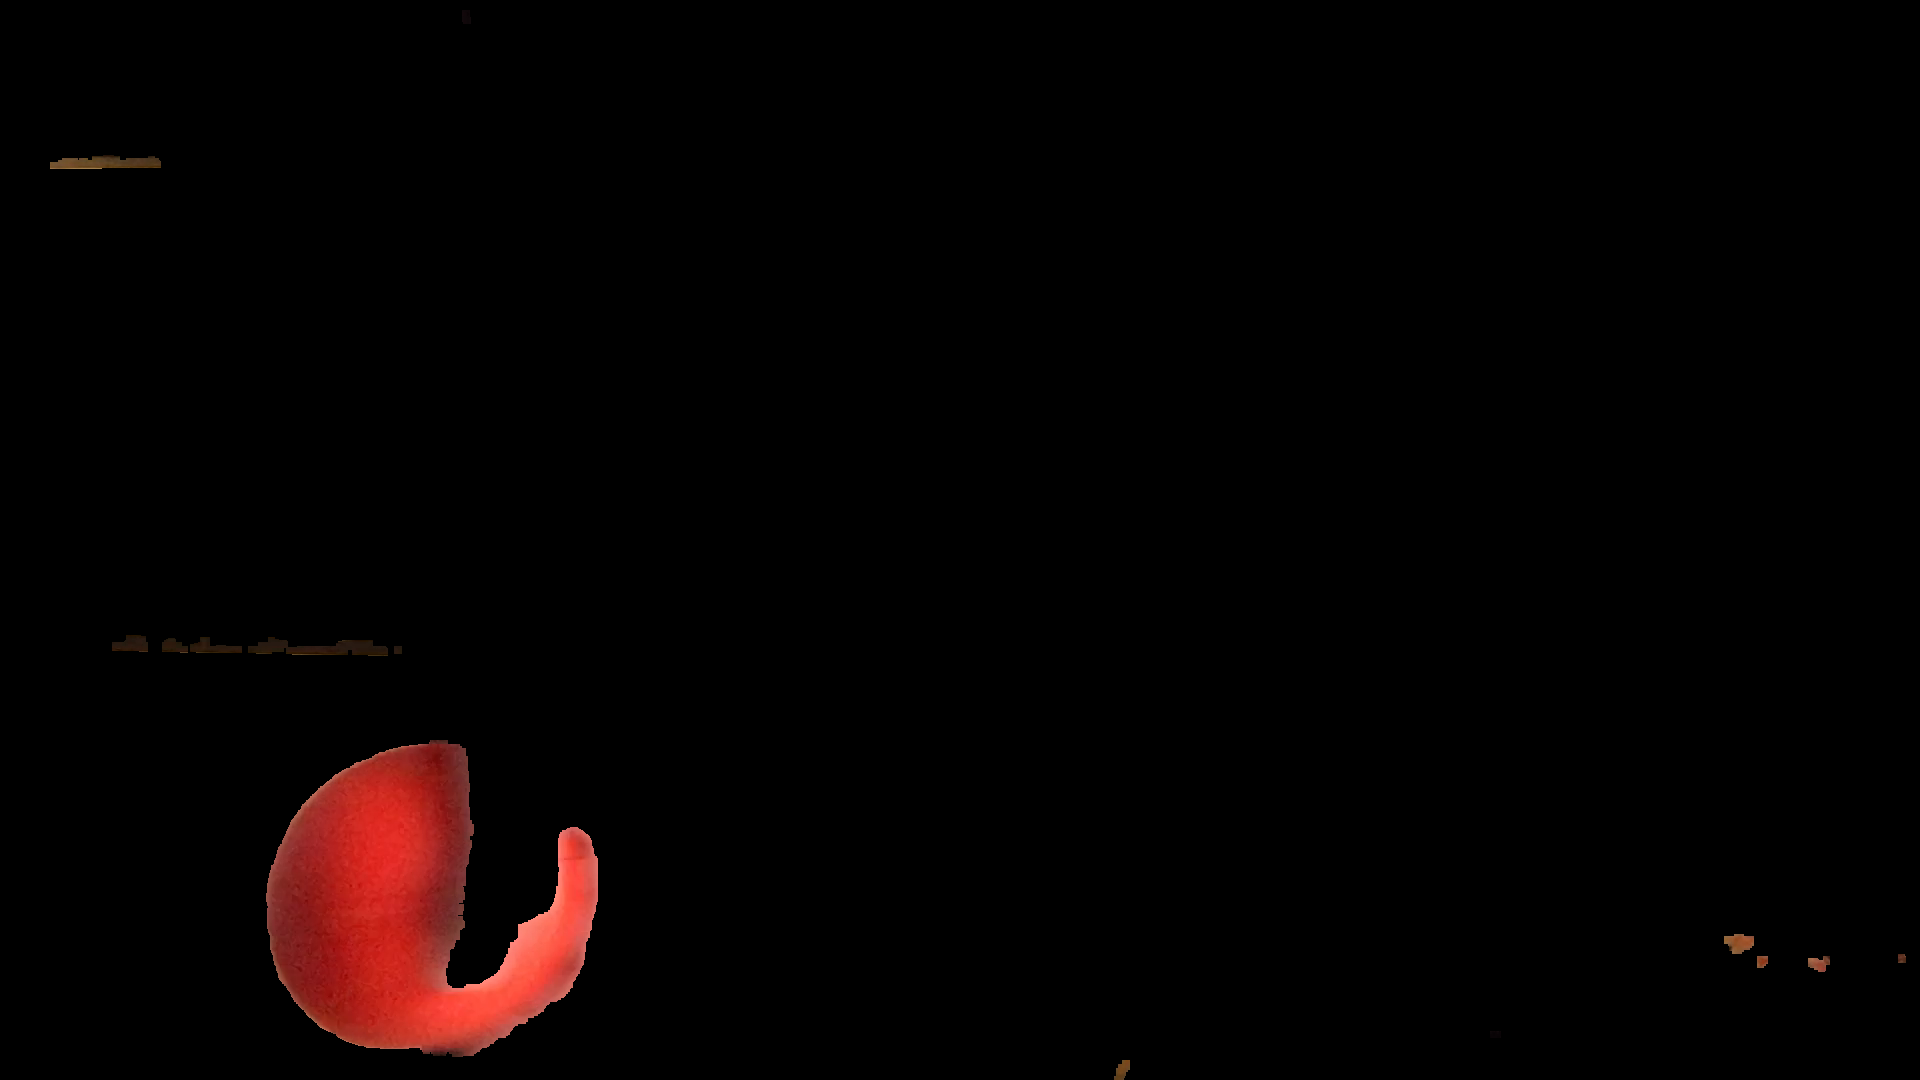Ball: (255, 736, 611, 1047)
